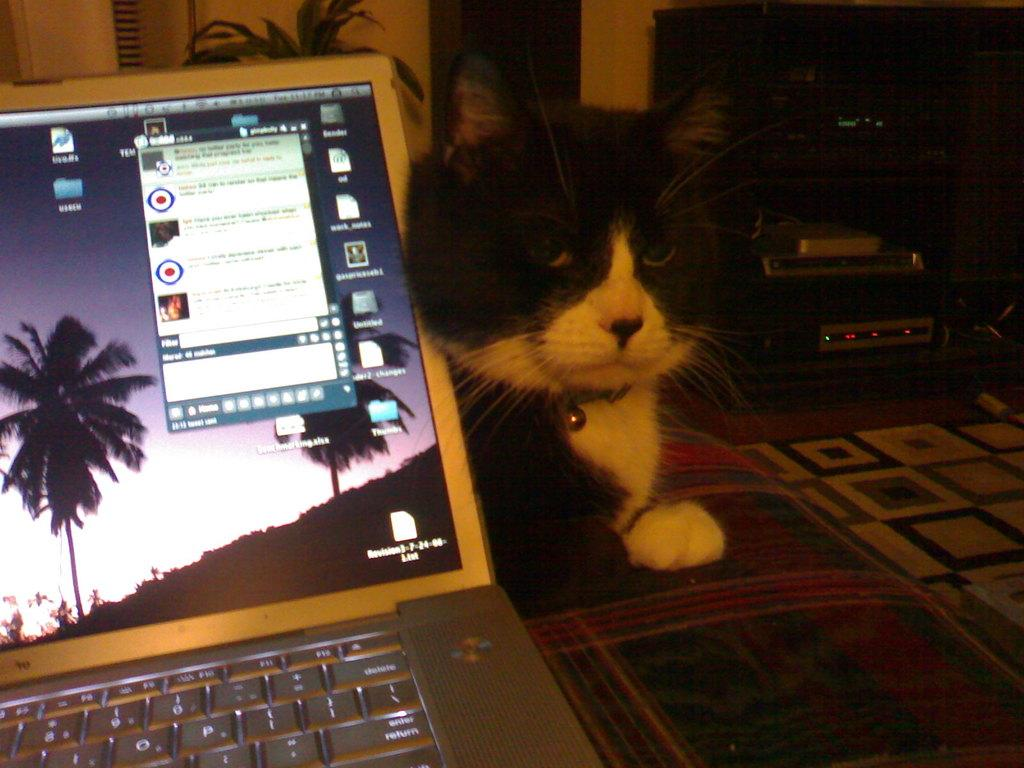Laptop: (36, 52, 575, 768)
